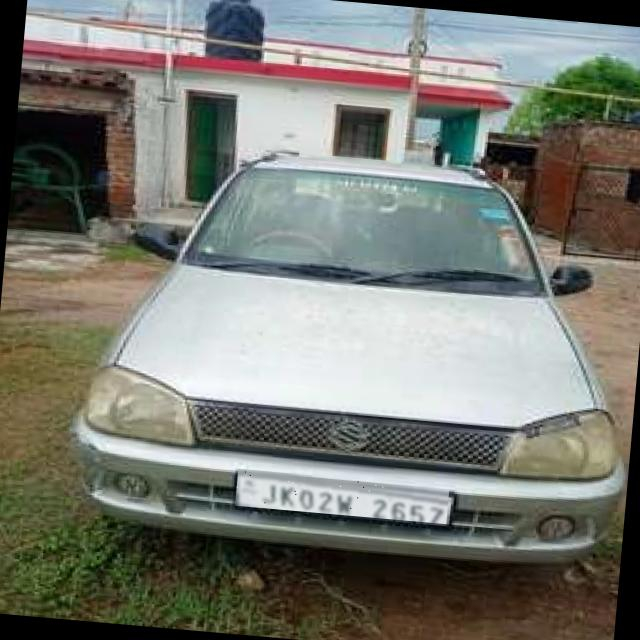Plate: (236, 472, 450, 525)
